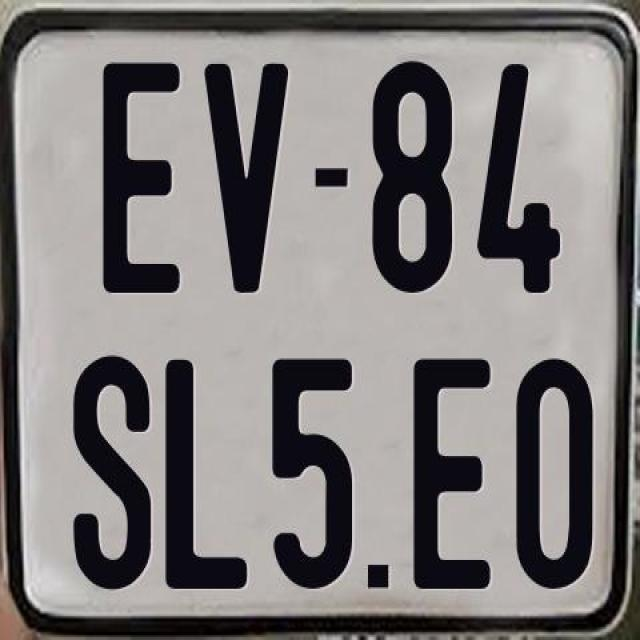0: (516, 357, 595, 589)
4: (473, 64, 559, 299)
5: (268, 355, 348, 586)
8: (368, 59, 452, 291)
E: (98, 58, 182, 294), (413, 358, 492, 589)
L: (163, 360, 249, 592)
S: (73, 352, 152, 595)
V: (203, 61, 289, 292)
